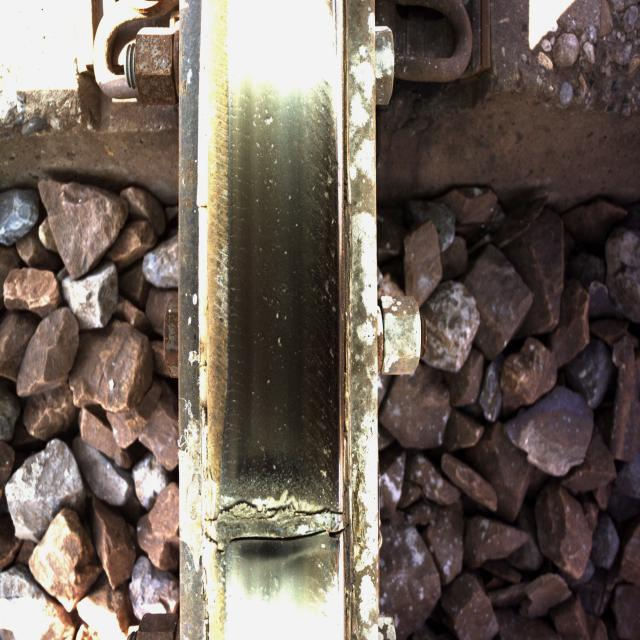spalling: (204, 470, 358, 579)
